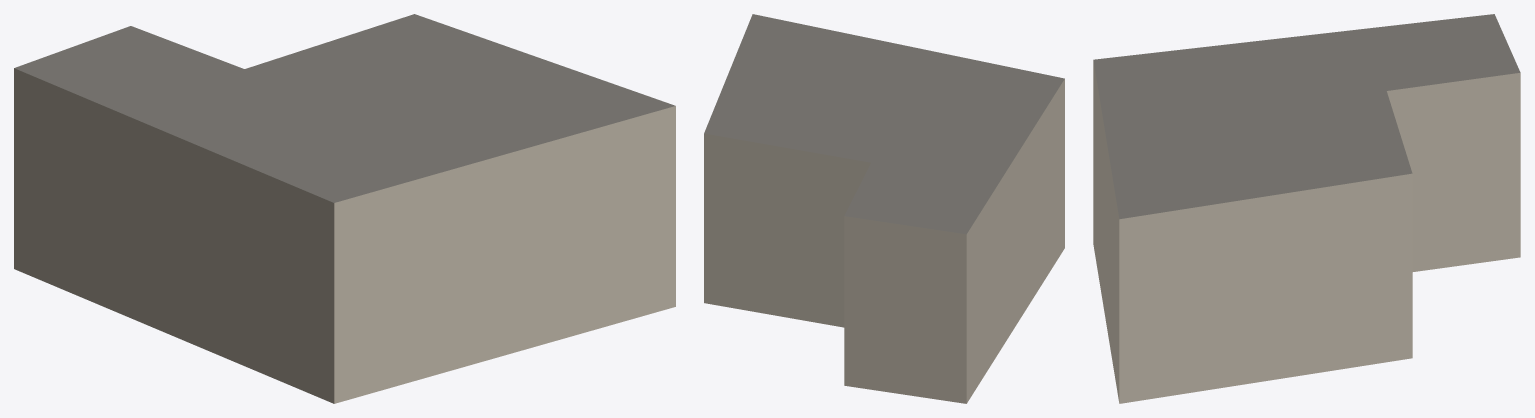
The picture shows the model from 3 angles, left to right: view 1: azimuth 30°, elevation 25°; view 2: azimuth 150°, elevation 25°; view 3: azimuth 270°, elevation 25°; orthographic projection. The views are drawn at different scales.
Visible parts, largest first — view 1: HP-w495102640; view 2: HP-w495102640; view 3: HP-w495102640.
Boxes of the visible parts, <box> form: HP-w495102640: <box>14,14,675,403</box>; HP-w495102640: <box>704,14,1064,403</box>; HP-w495102640: <box>1093,14,1520,403</box>.
Size of the model in its own units: 28.6 by 12 by 25.16.
